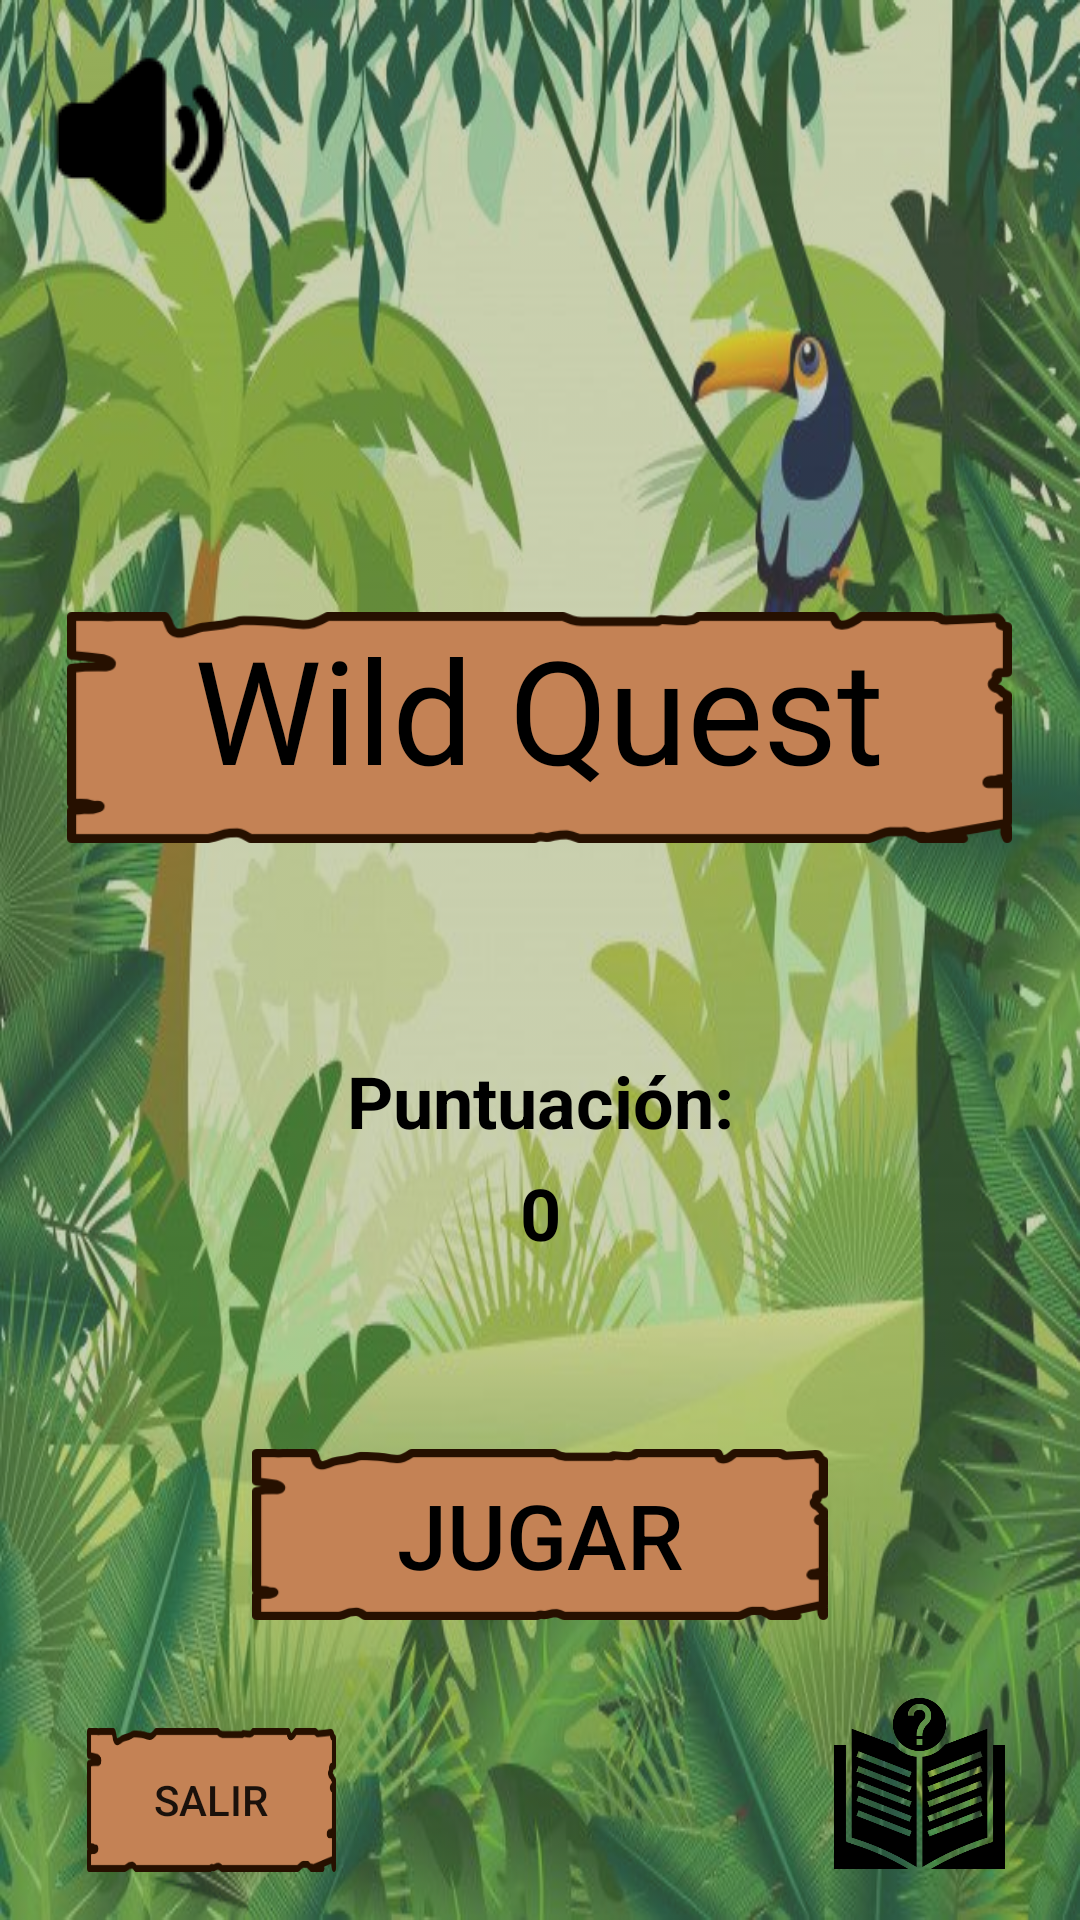

Named icons in this screenshot (1080w x 1920h) and their centers, point (x, y):
Manual: point (919, 1783)
Silenciar música: point (140, 140)
